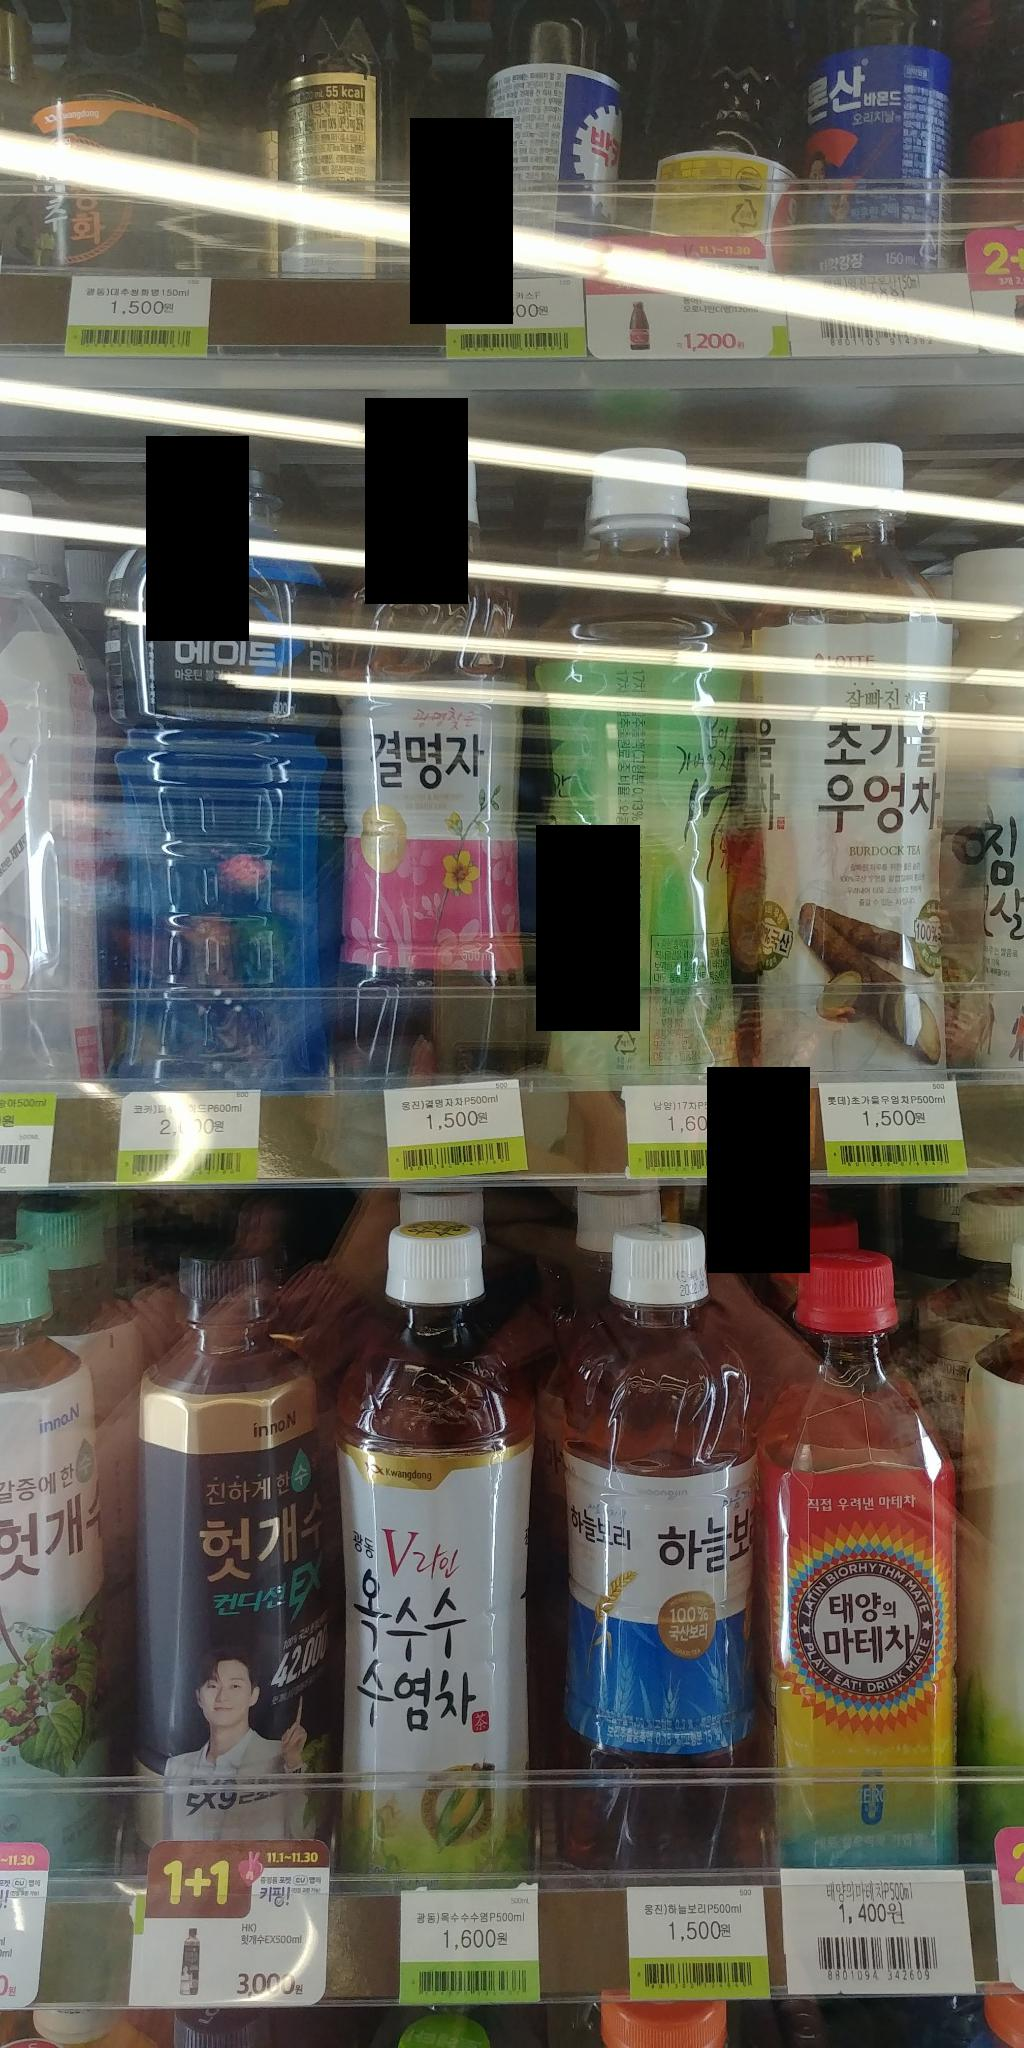haneulbori: (555, 1233, 785, 1880)
oksususuyeomcha: (313, 1223, 552, 1895)
powerade_mountainblast: (89, 404, 359, 1112)
